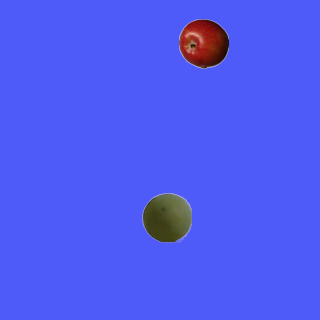Apple Braeburn: (178, 18, 228, 68)
Grape White 4: (141, 192, 191, 242)
